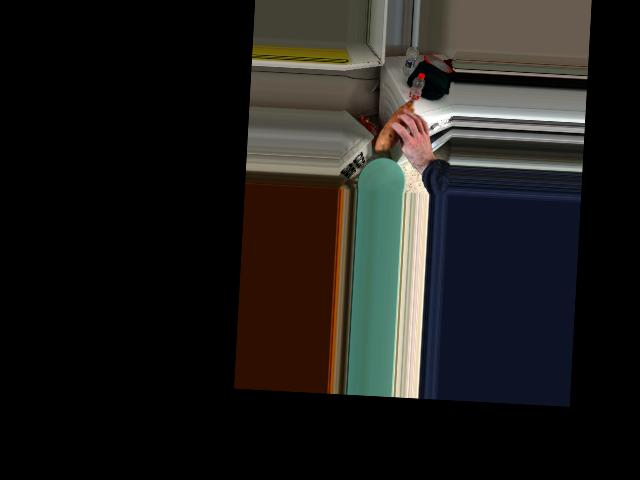sweet_potato: (375, 99, 421, 146)
